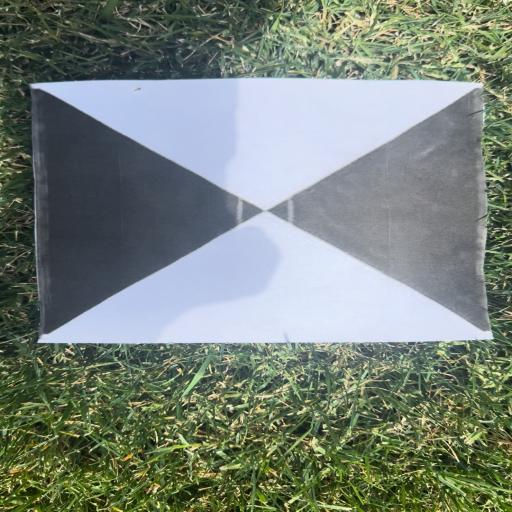target: (33, 83, 493, 341)
